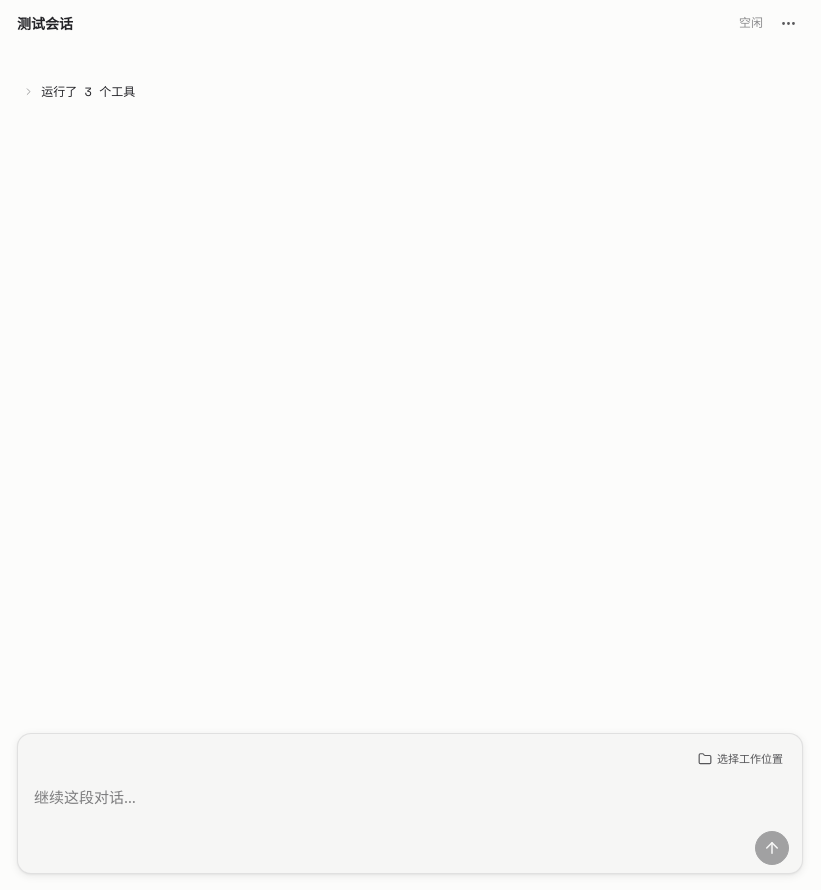
Test: 工具行的分组与骨架（G-3 / G-10） › 页面上：三条连续工具事件折成一个组头，展开后才逐行
Click the button "运行了 3 个工具" at (88, 92), box [17, 79, 803, 105]
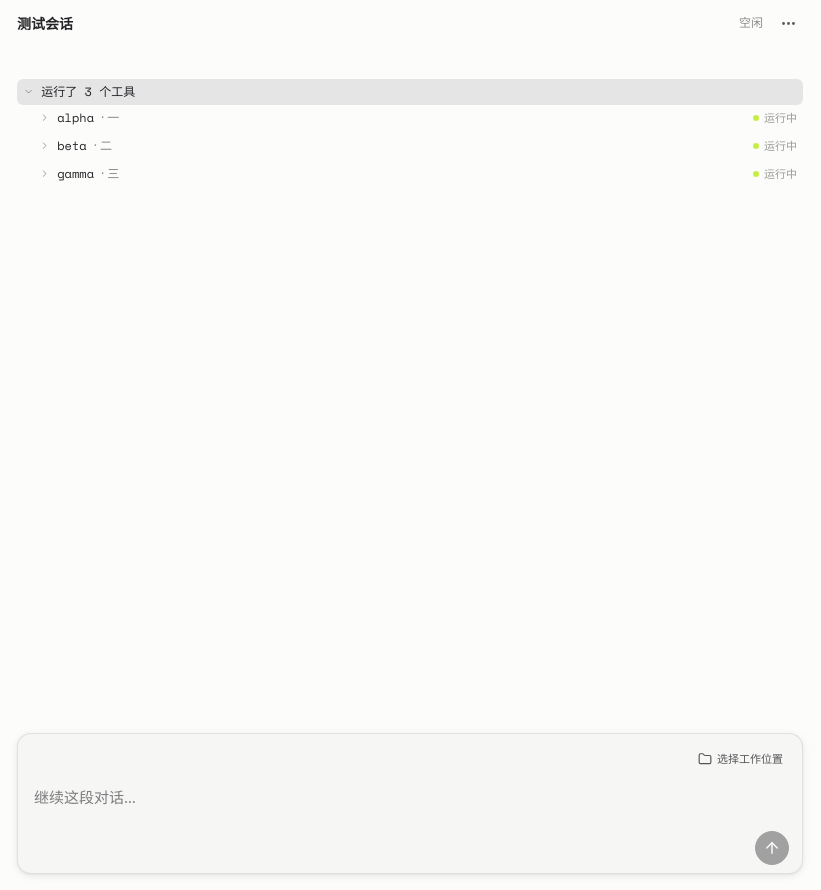
Now the number of elements with test id "tool-row" is 3, box [33, 105, 803, 131]; [33, 133, 803, 159]; [33, 161, 803, 187]
